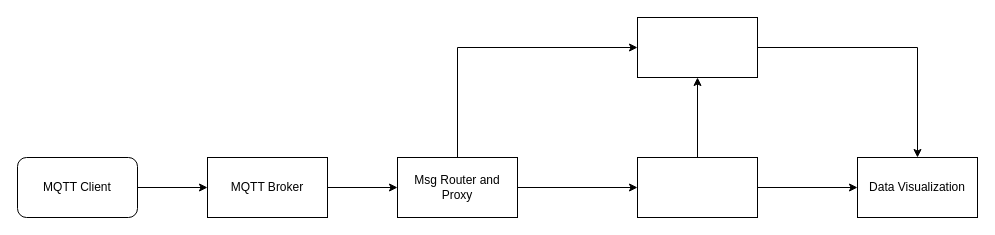
The diagram is 995 pixels wide and 235 high, and some of its shapes have lost their labels. The shapes that lost their labels are listed below. From the top down, each one's centre as x and y in pixels, then its label:
At pixel 697 47: "Database".
At pixel 697 187: "Backend Services".
